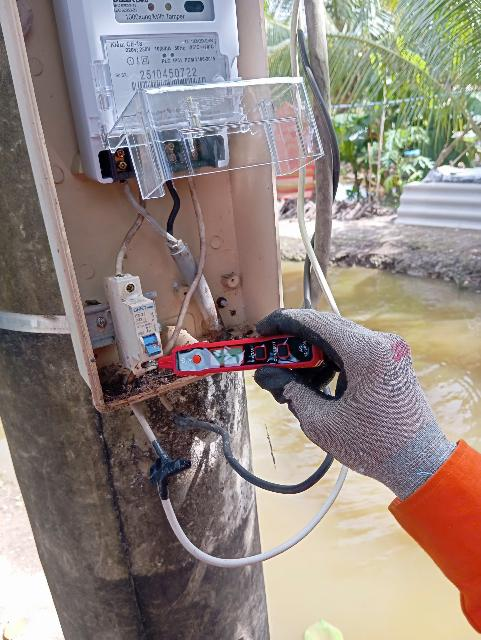gloves: (242, 281, 470, 523)
